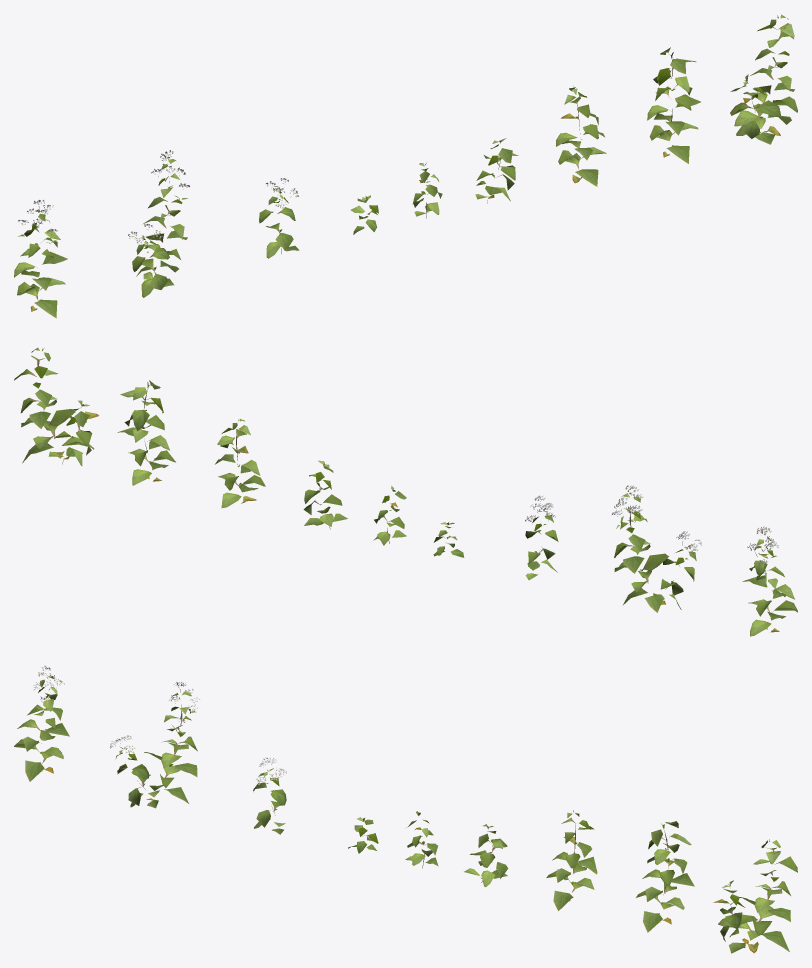
Rendered from shrub_01.glb.
3 renders of one model, top to bottom at view 1: azimuth 30°, elevation 25°; view 2: azimuth 150°, elevation 25°; view 3: azimuth 330°, elevation 25°, orthographic. The views are drawn at different scales.
Visible parts, largest first — view 1: shrub_01_a; view 2: shrub_01_a; view 3: shrub_01_a.
Part boxes in pixels (left/top/right/bottom): shrub_01_a: left=14, top=14, right=797, bottom=318; shrub_01_a: left=14, top=347, right=797, bottom=636; shrub_01_a: left=14, top=665, right=797, bottom=953.
Bounding box in the file's own units: 2.59 × 0.4006 × 0.2222.
Materials: 1 (1 with a texture image).
